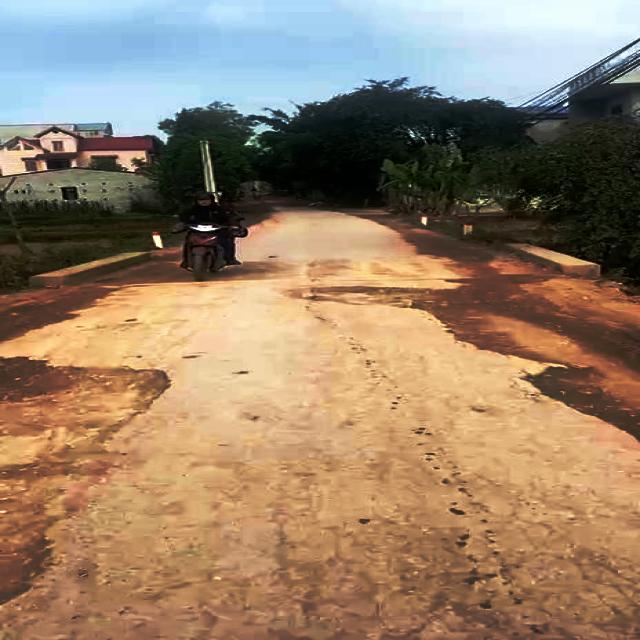pothole: (0, 450, 116, 598), (0, 363, 186, 428), (301, 285, 454, 310)
